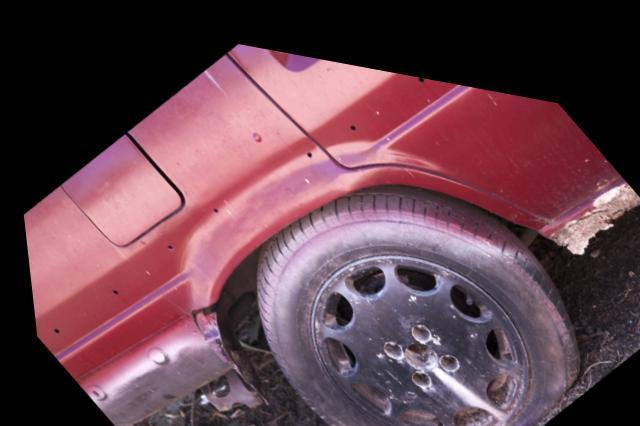tire flat: (250, 169, 575, 426)
